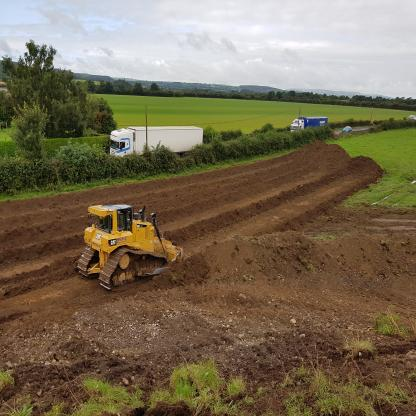bull_dozer/loader/grader: (71, 200, 215, 299)
